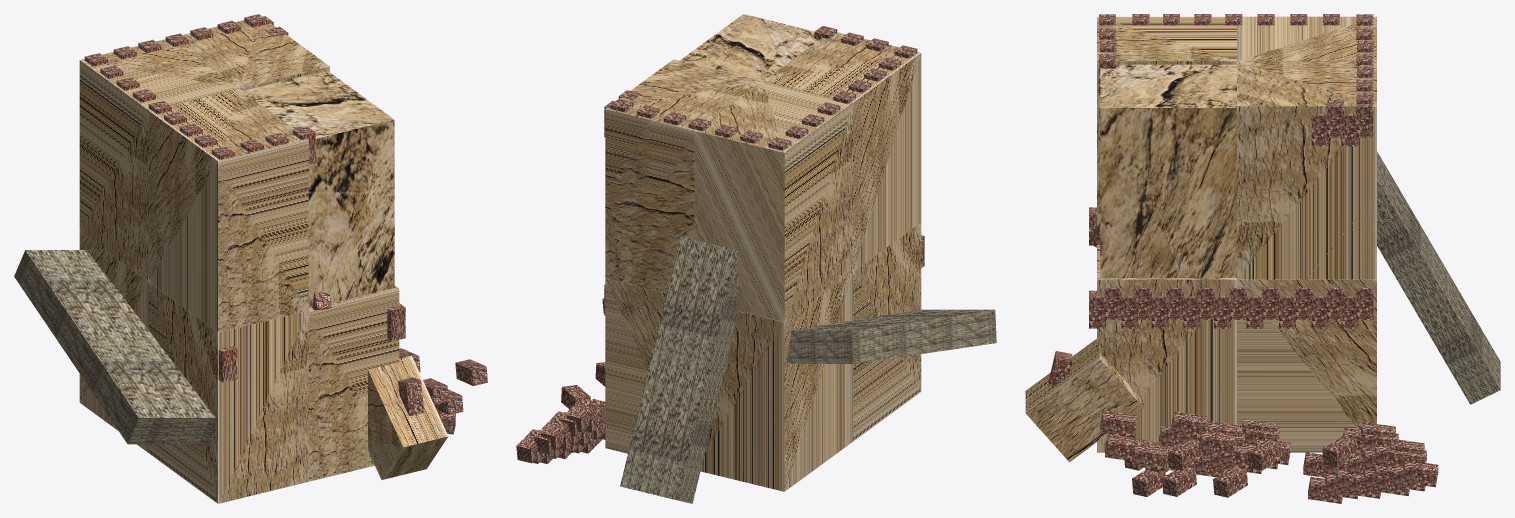
File: Sumerian_Tower_semidemolished.fbx
The picture shows the model from 3 angles, left to right: view 1: azimuth 30°, elevation 25°; view 2: azimuth 150°, elevation 25°; view 3: azimuth 270°, elevation 25°; orthographic projection. The views are drawn at different scales.
Parts seen in each view (by area): view 1: Cube_cell.008, Cube_cell.010, Cube_cell.003, Cube.057, Cube_cell.014, Cube_cell.013, Cube_cell.015_cell.006, Cube_cell.015, Cube_cell.012, Cube_cell.015_cell.007, Cube.000, Cube.042 (+3 smaller); view 2: Cube_cell.014, Cube_cell.012, Cube.758, Cube_cell.008, Cube_cell.010, Cube.057, Cube_cell.009, Cube_cell.015, Cube_cell.003, Cube_cell.015_cell.007, Cube_cell.015_cell, Cube_cell.015_cell.002 (+4 smaller); view 3: Cube_cell.003, Cube_cell.015, Cube_cell.009, Cube_cell.013, Cube.758, Cube_cell.015_cell.006, Cube_cell.008, Cube_cell.014, Cube_cell.015_cell, Cube_cell.015_cell.007, Cube.037, Cube.042 (+32 smaller).
Part boxes in pixels (x1,y1,x2,y2): Cube_cell.008: (149, 88, 308, 332); Cube_cell.010: (149, 282, 308, 503); Cube_cell.003: (243, 70, 394, 308); Cube.057: (14, 250, 215, 444); Cube_cell.014: (79, 39, 238, 281); Cube_cell.013: (308, 285, 399, 481); Cube_cell.015_cell.006: (368, 355, 448, 479); Cube_cell.015: (181, 23, 329, 90); Cube_cell.012: (79, 231, 148, 452); Cube_cell.015_cell.007: (181, 27, 249, 62); Cube.000: (398, 377, 424, 415); Cube.042: (455, 359, 487, 385); Cube_cell.014: (695, 81, 852, 322); Cube_cell.012: (700, 272, 852, 491); Cube.758: (620, 236, 738, 503); Cube_cell.008: (764, 32, 921, 271); Cube_cell.010: (853, 222, 921, 441); Cube.057: (786, 309, 996, 363); Cube_cell.009: (605, 278, 666, 453); Cube_cell.015: (605, 59, 762, 215); Cube_cell.003: (680, 14, 818, 80); Cube_cell.015_cell.007: (650, 95, 728, 215); Cube_cell.015_cell: (605, 194, 649, 289); Cube_cell.015_cell.002: (605, 84, 683, 204); Cube_cell.003: (1100, 64, 1236, 277); Cube_cell.015: (1237, 61, 1376, 279); Cube_cell.009: (1237, 279, 1376, 452); Cube_cell.013: (1097, 244, 1236, 452); Cube.758: (1377, 151, 1500, 404); Cube_cell.015_cell.006: (1025, 338, 1143, 462); Cube_cell.008: (1097, 16, 1236, 225); Cube_cell.014: (1237, 16, 1376, 61); Cube_cell.015_cell: (1307, 193, 1376, 279); Cube_cell.015_cell.007: (1307, 61, 1376, 83); Cube.037: (1100, 410, 1136, 437); Cube.042: (1132, 443, 1168, 470).
Bounding box in the file's own units: 634 × 610 × 696.
